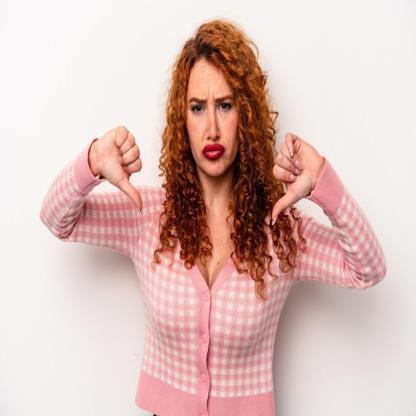thumb_down: (95, 122, 150, 214), (267, 127, 317, 228)
